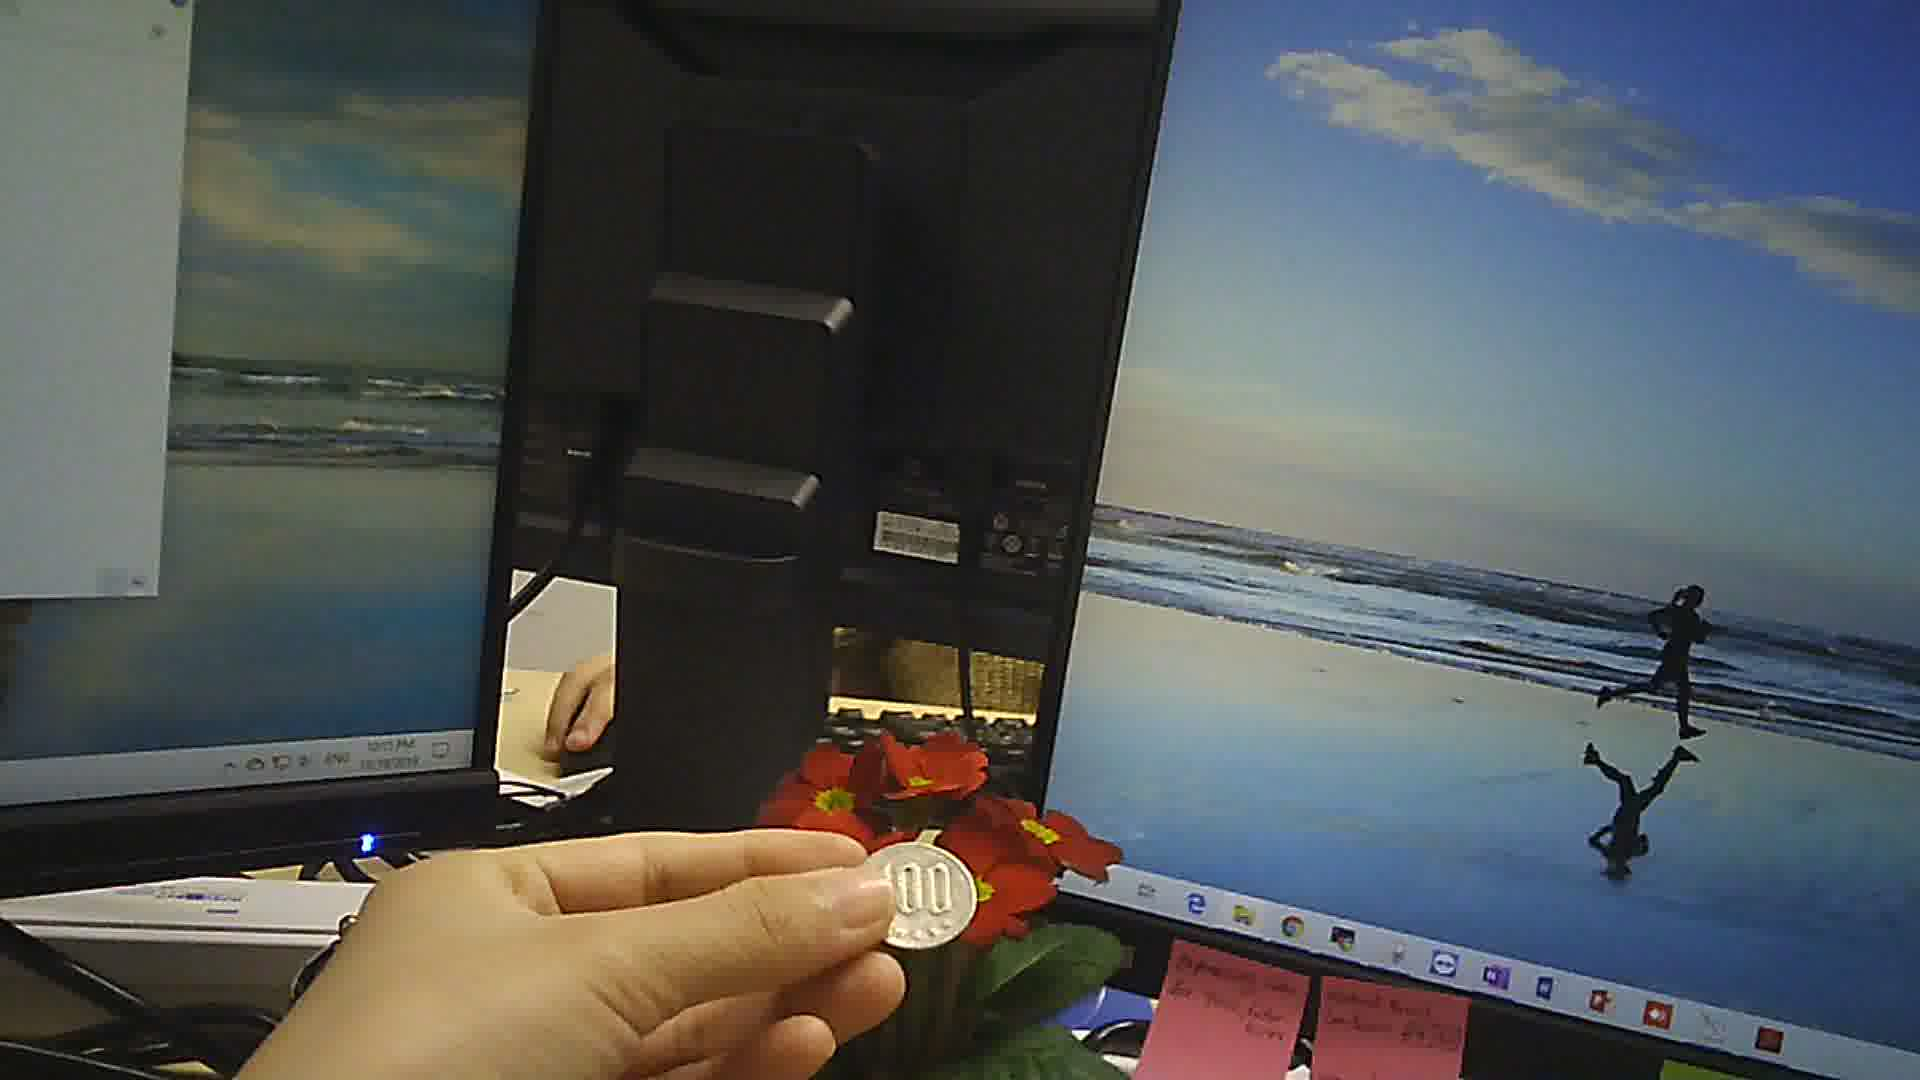100 Yen: (855, 837, 988, 953)
